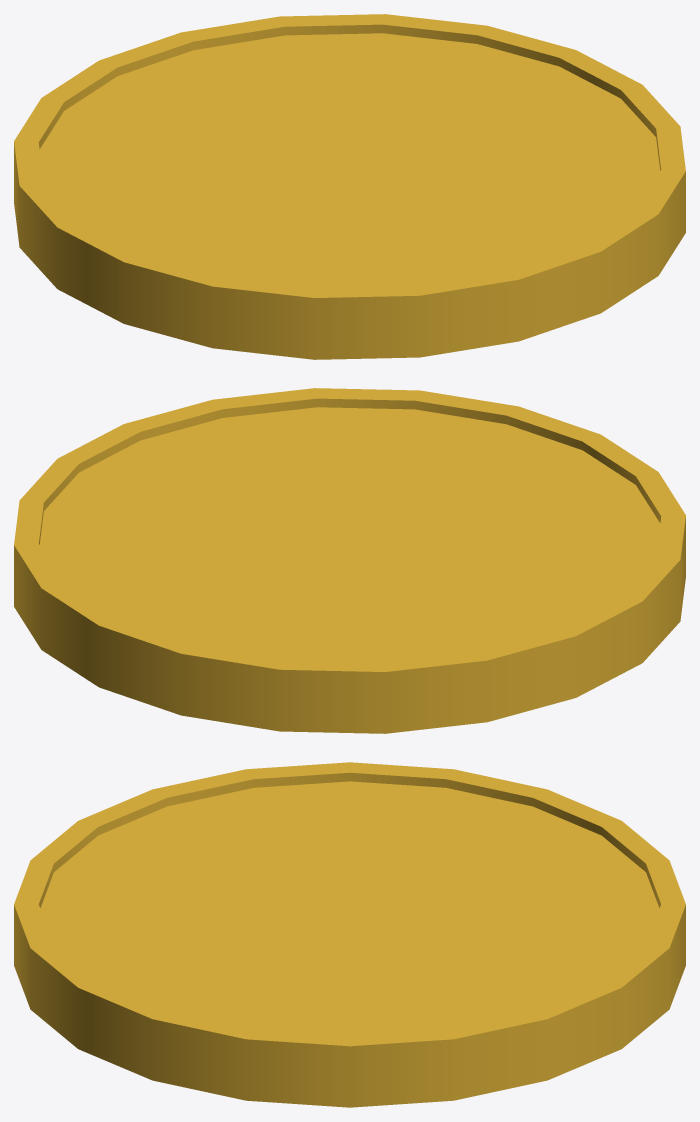
Rendered from Coin.fbx.
The picture shows the model from 3 angles, top to bottom: view 1: azimuth 30°, elevation 25°; view 2: azimuth 150°, elevation 25°; view 3: azimuth 270°, elevation 25°; orthographic projection.
Visible parts, largest first — view 1: pCylinder1; view 2: pCylinder1; view 3: pCylinder1.
Boxes of the visible parts, bbox=[...] form: pCylinder1: bbox=[14, 14, 685, 359]; pCylinder1: bbox=[14, 388, 685, 733]; pCylinder1: bbox=[14, 762, 685, 1107].
Size of the model in its own units: 1.03 by 0.1035 by 1.03.
